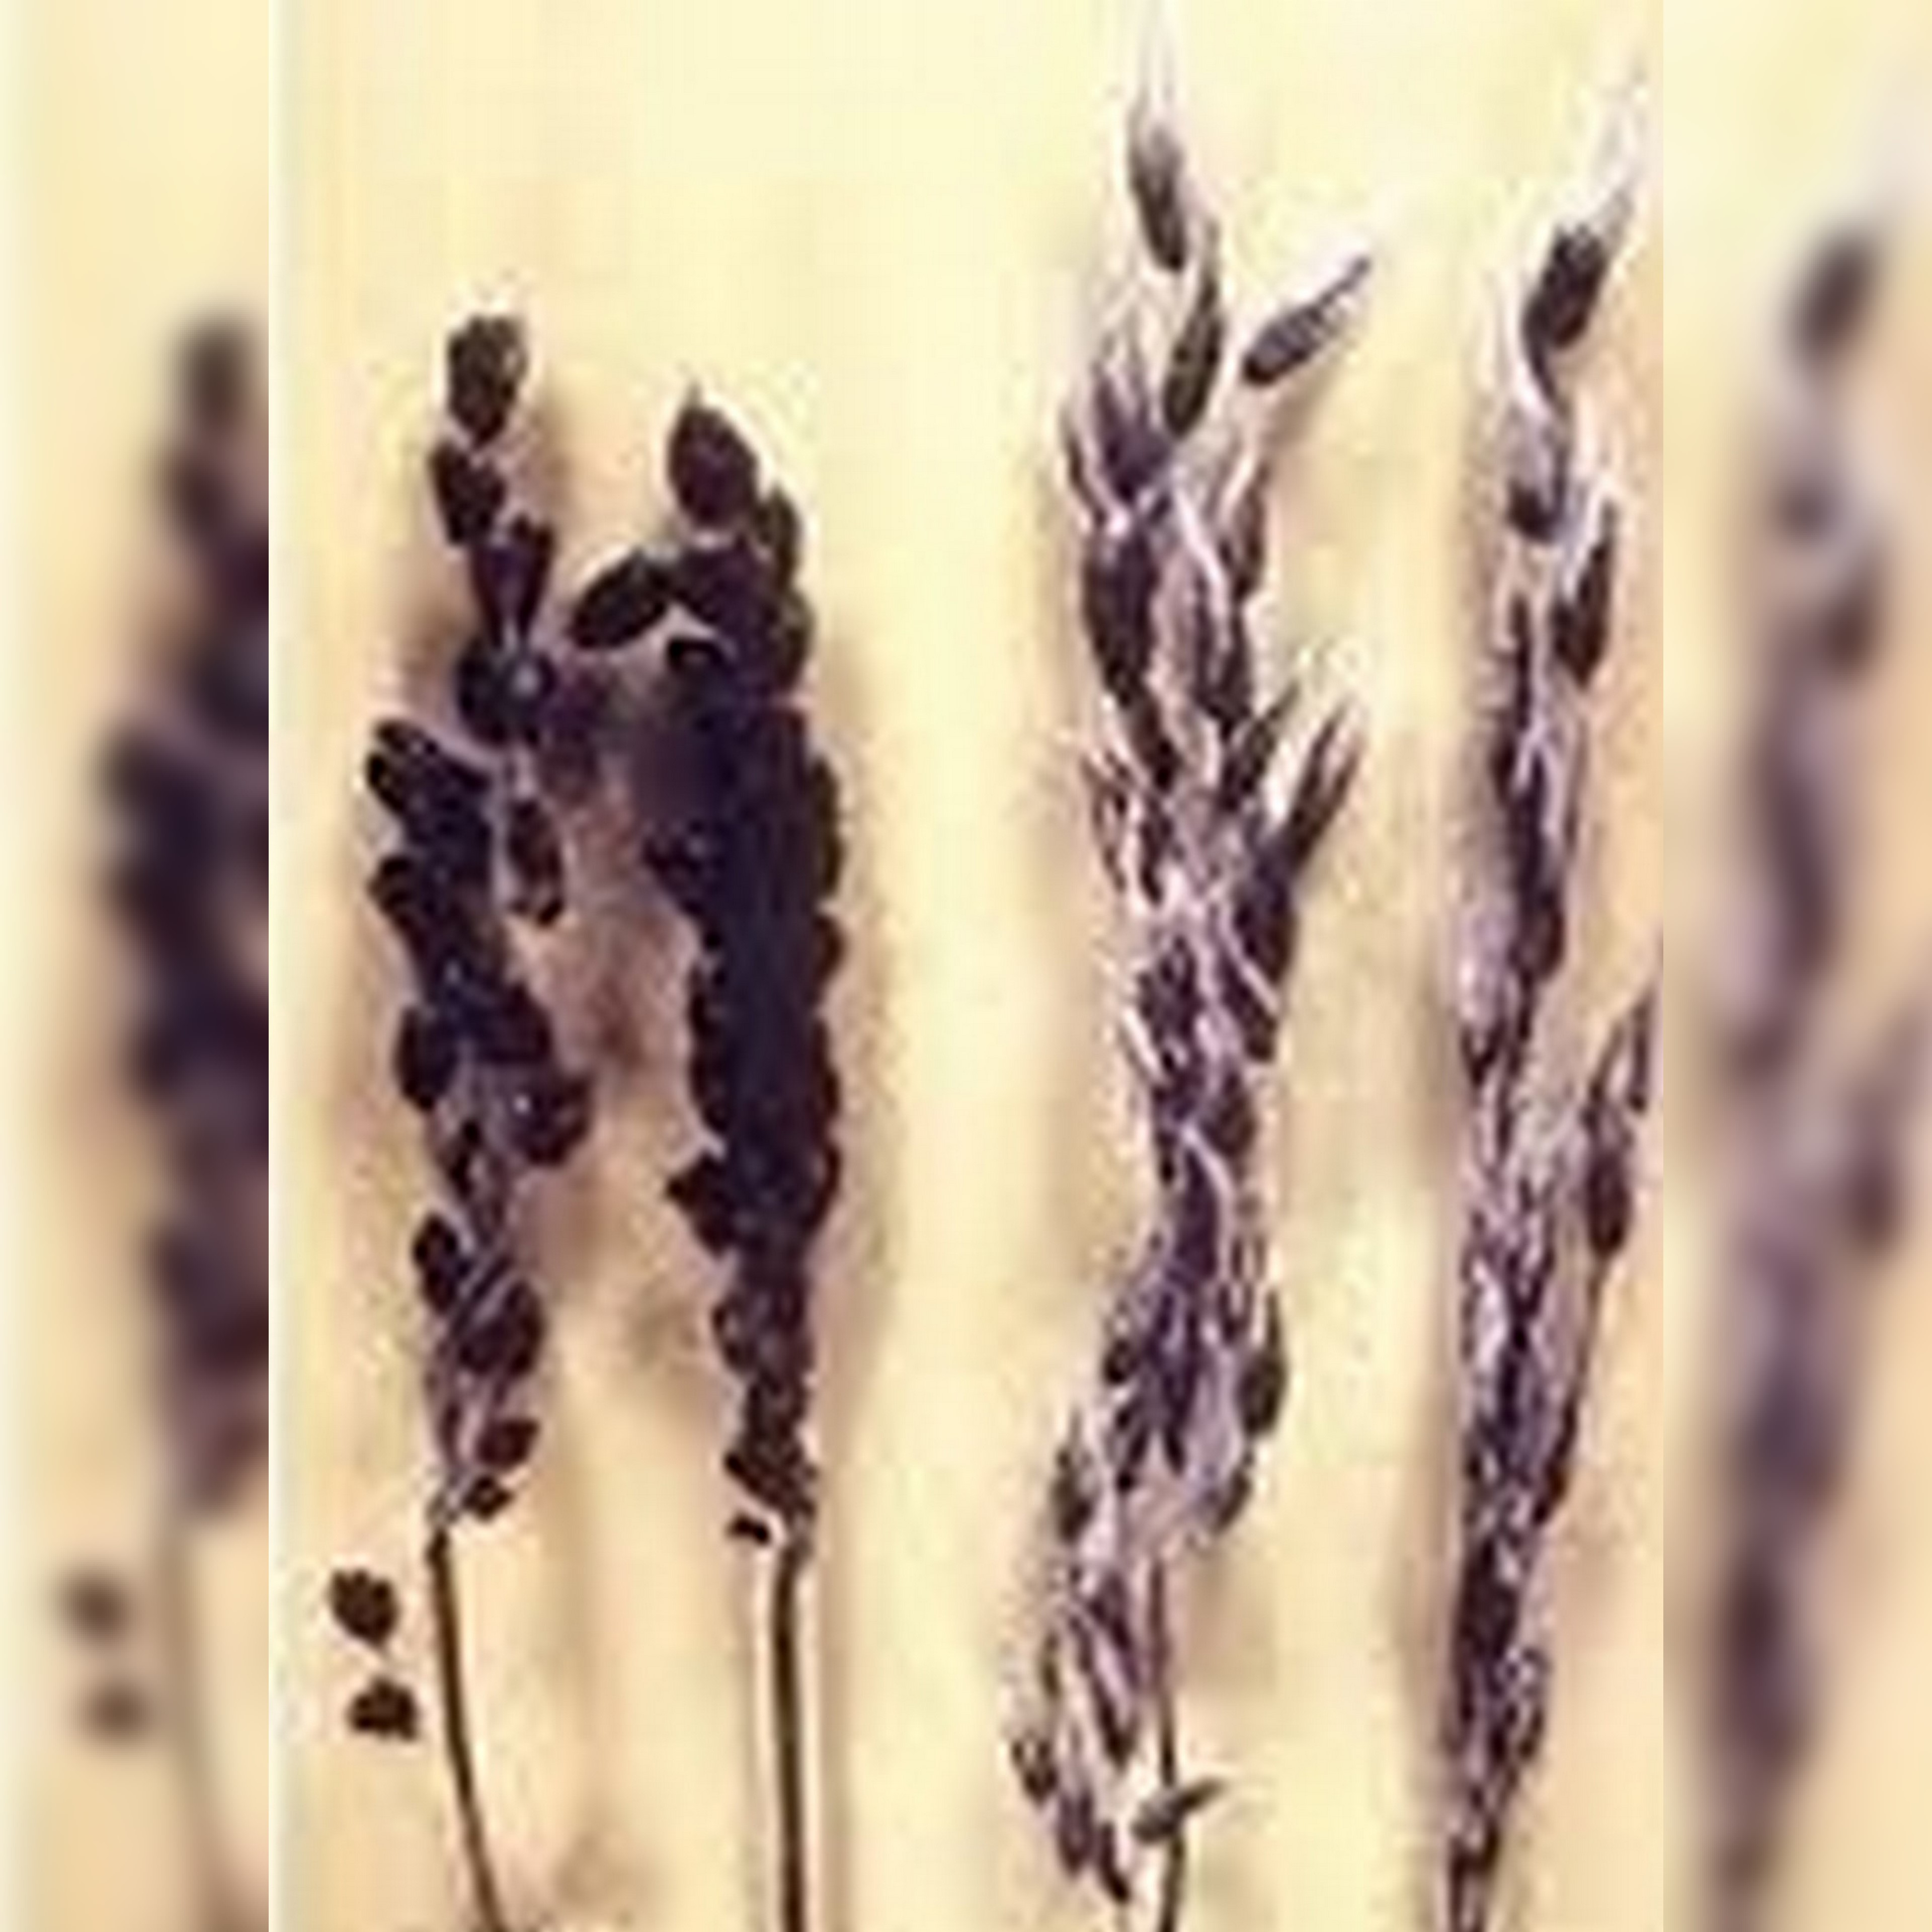Wheat Loose Smut: (368, 287, 927, 1608)
